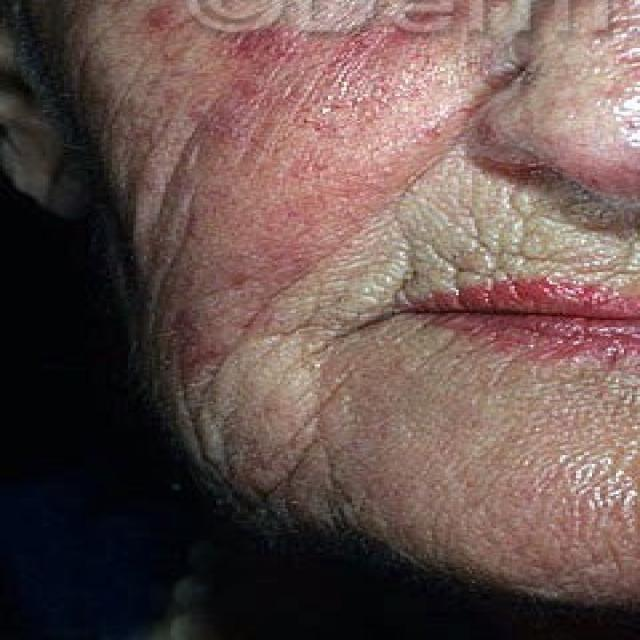Rosacea: (193, 19, 470, 124)
